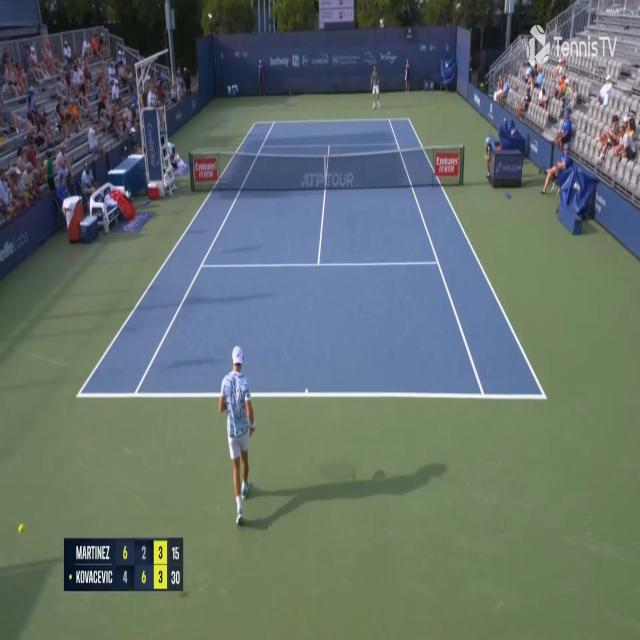tennis-player: (216, 342, 257, 524), (370, 64, 382, 110)
